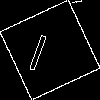I: (25, 25, 54, 72)
